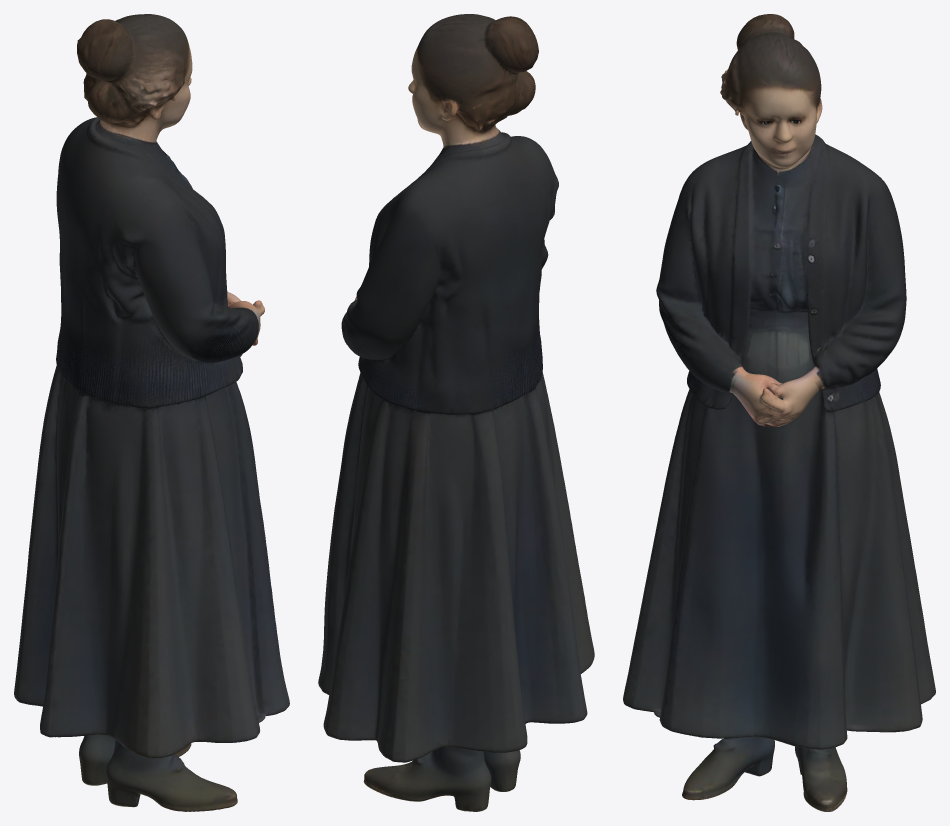
File: marie-curie.glb
The picture shows the model from 3 angles, left to right: view 1: azimuth 30°, elevation 25°; view 2: azimuth 150°, elevation 25°; view 3: azimuth 270°, elevation 25°; orthographic projection. The views are drawn at different scales.
Parts seen in each view (by area): view 1: tripo_node_5614faa8-2b7c-4144-a7fc-4747ab3d53ec; view 2: tripo_node_5614faa8-2b7c-4144-a7fc-4747ab3d53ec; view 3: tripo_node_5614faa8-2b7c-4144-a7fc-4747ab3d53ec.
Part boxes in pixels (x1,y1,x2,y2): tripo_node_5614faa8-2b7c-4144-a7fc-4747ab3d53ec: (14,14,289,811); tripo_node_5614faa8-2b7c-4144-a7fc-4747ab3d53ec: (318,14,594,811); tripo_node_5614faa8-2b7c-4144-a7fc-4747ab3d53ec: (623,14,935,811).
Size of the model in its own units: 0.314 by 1 by 0.3784.
Materials: 1 (1 with a texture image).
